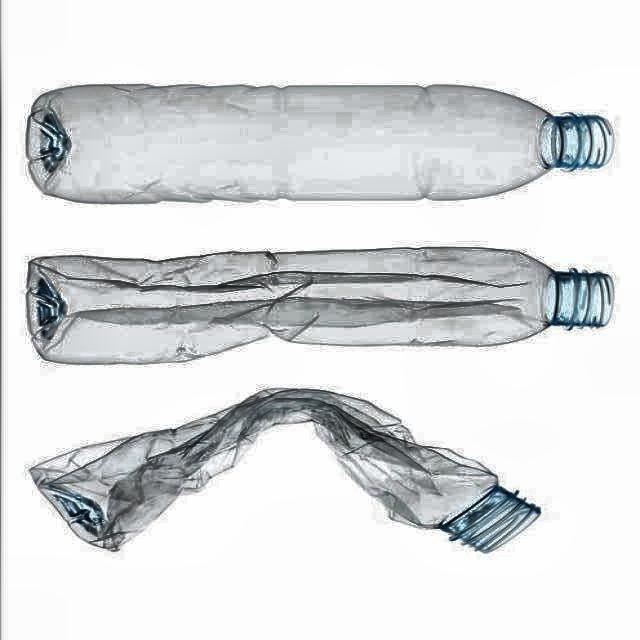plastic: (31, 390, 539, 551), (28, 86, 612, 203), (28, 248, 613, 364)
